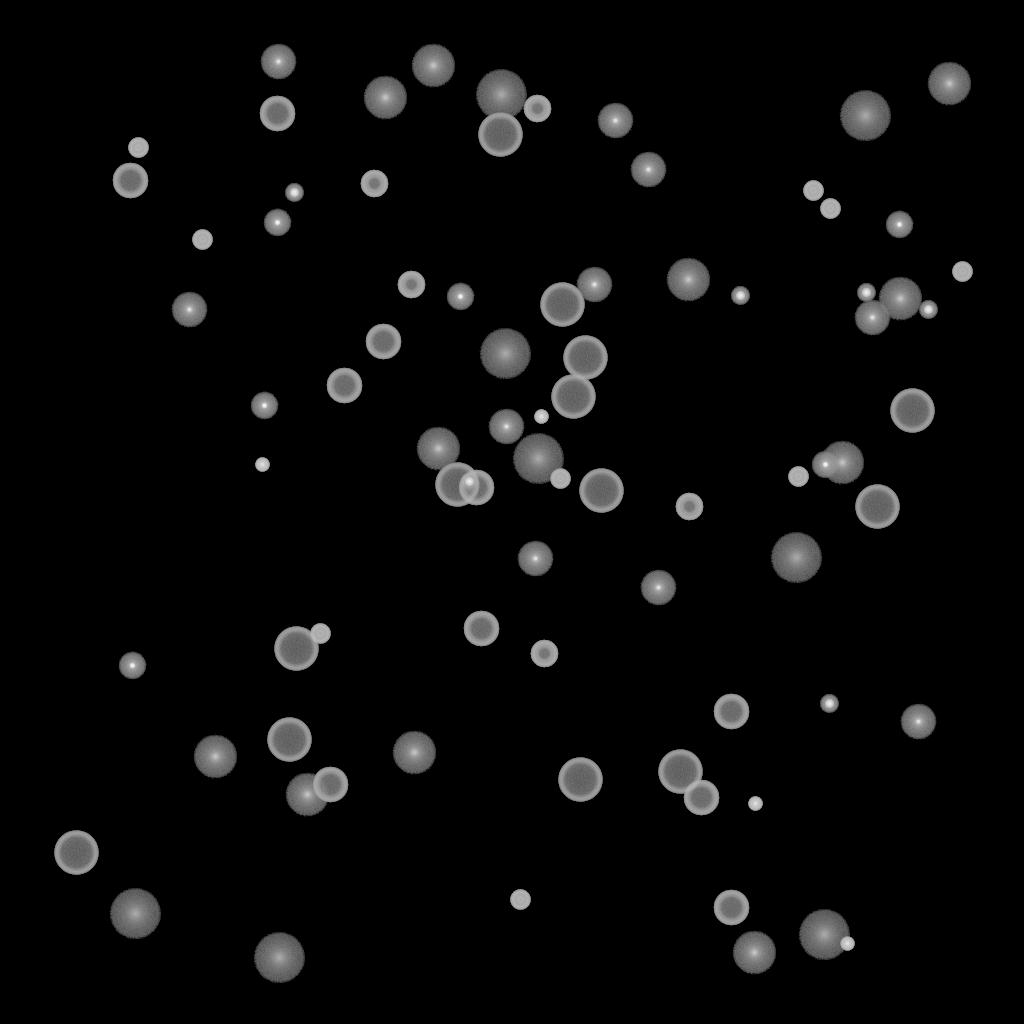depth:-10: (118, 652, 146, 680), (446, 283, 474, 311), (263, 209, 291, 237), (885, 211, 913, 239), (811, 451, 839, 479), (250, 392, 278, 420)
depth:-20: (919, 301, 937, 319), (857, 284, 875, 302), (820, 695, 838, 713), (460, 473, 478, 491), (731, 287, 749, 305), (285, 184, 303, 202)
depth:-30: (840, 937, 854, 951), (534, 410, 548, 424), (748, 797, 762, 811), (255, 458, 269, 472)
depth:-40: (952, 262, 972, 282), (550, 469, 570, 489), (128, 138, 148, 158), (788, 467, 808, 487), (820, 199, 840, 219), (510, 890, 530, 910), (803, 181, 823, 201), (192, 230, 212, 250), (310, 624, 330, 644)
depth:-50: (397, 271, 425, 299), (360, 170, 388, 198), (675, 493, 703, 521), (523, 95, 551, 123), (530, 640, 558, 668)
depth:-60: (463, 611, 499, 647), (683, 780, 719, 816), (259, 96, 295, 132), (365, 324, 401, 360), (326, 368, 362, 404), (458, 470, 494, 506), (713, 694, 749, 730), (312, 767, 348, 803), (713, 890, 749, 926), (112, 163, 148, 199)
depth:-70: (435, 463, 479, 507), (658, 750, 702, 794), (563, 336, 607, 380), (274, 627, 318, 671), (558, 758, 602, 802), (540, 283, 584, 327), (478, 113, 522, 157), (267, 718, 311, 762), (54, 831, 98, 875), (551, 375, 595, 419), (890, 389, 934, 433), (855, 485, 899, 529), (579, 469, 623, 513)
depth:0: (576, 267, 612, 303), (900, 704, 936, 740), (488, 409, 524, 445), (640, 570, 676, 606), (854, 300, 890, 336), (260, 44, 296, 80), (517, 541, 553, 577), (630, 152, 666, 188), (597, 103, 633, 139), (171, 292, 207, 328)
depth:10: (927, 62, 971, 106), (416, 427, 460, 471), (820, 441, 864, 485), (363, 76, 407, 120), (411, 44, 455, 88), (392, 731, 436, 775), (666, 258, 710, 302), (878, 277, 922, 321), (285, 773, 329, 817), (732, 931, 776, 975), (193, 735, 237, 779)
depth:20: (479, 329, 531, 379), (798, 910, 850, 960), (512, 434, 564, 484), (253, 933, 305, 983), (109, 889, 161, 939), (475, 70, 527, 120), (839, 91, 891, 141), (770, 533, 822, 583)
